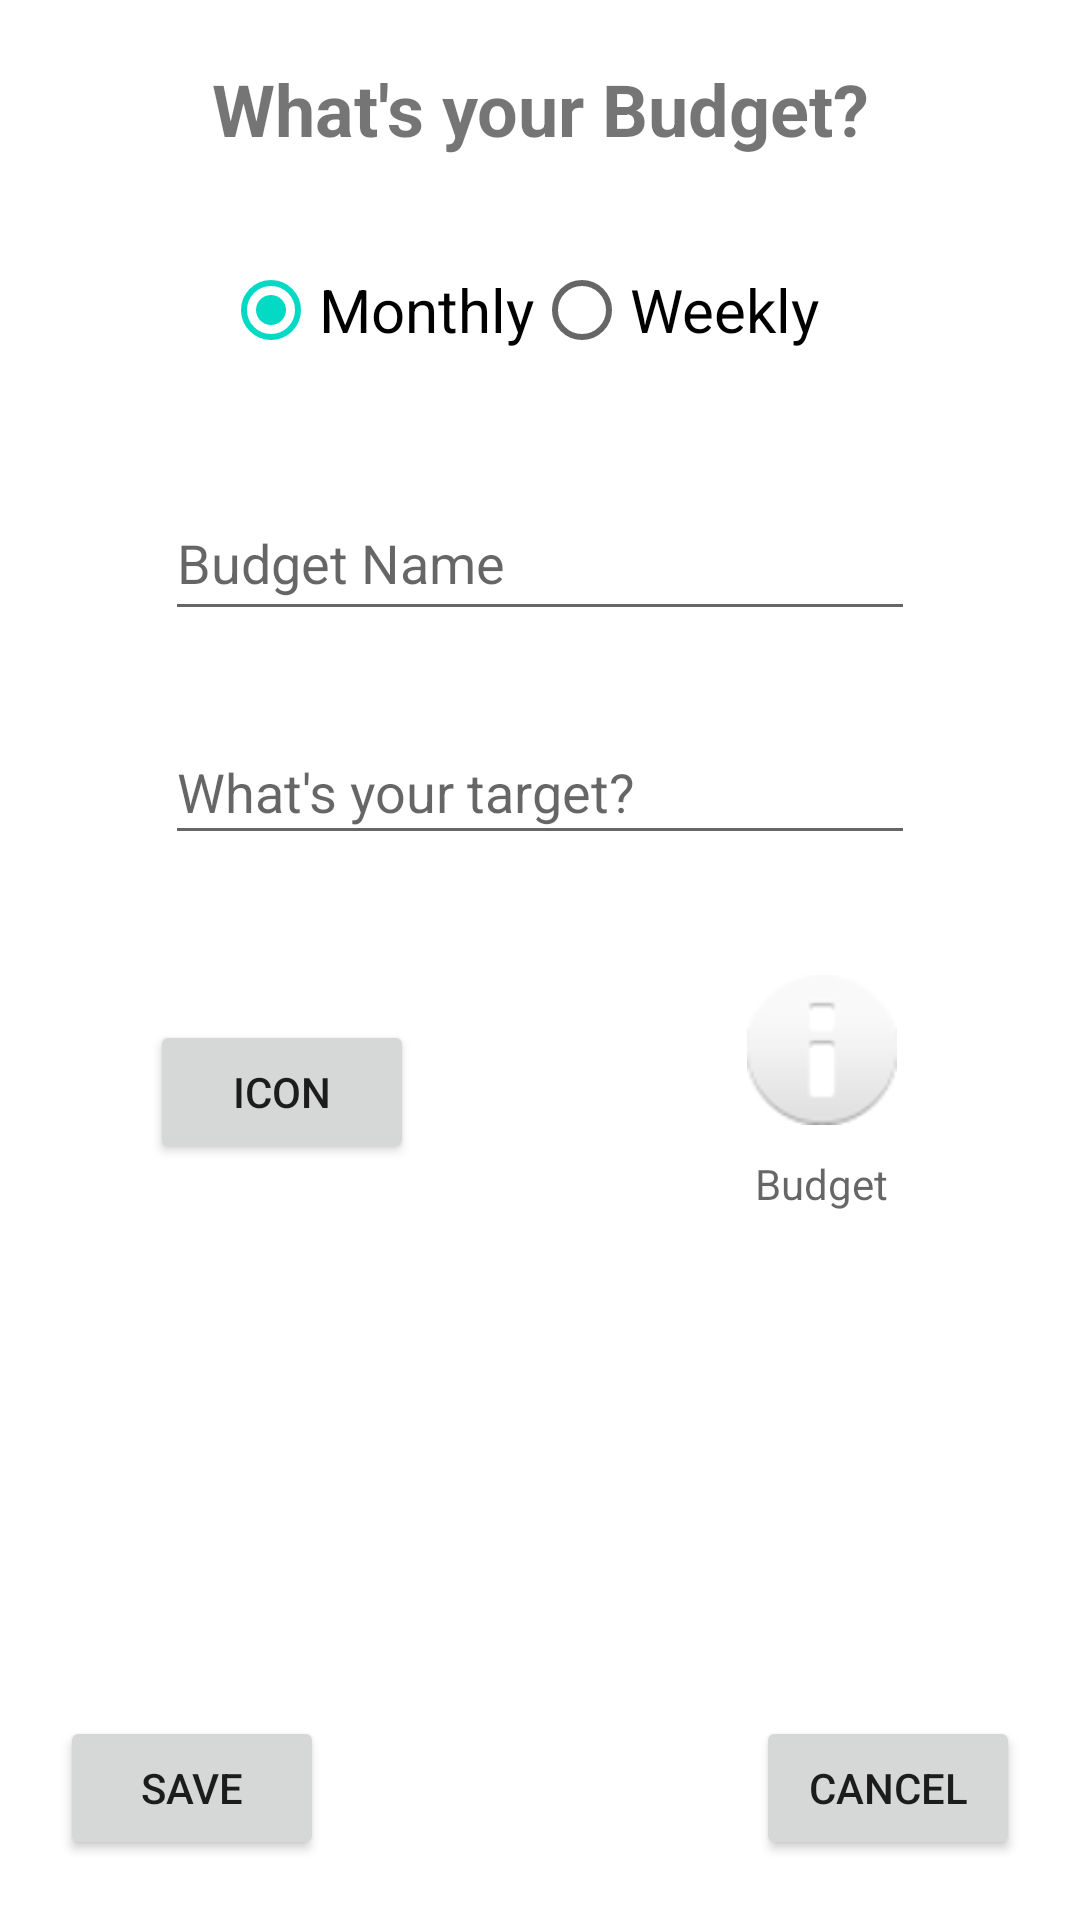

Named icons in this screenshot (1080px×1920px) and their centers, (x=x, y=y):
info: (x=822, y=1064)
